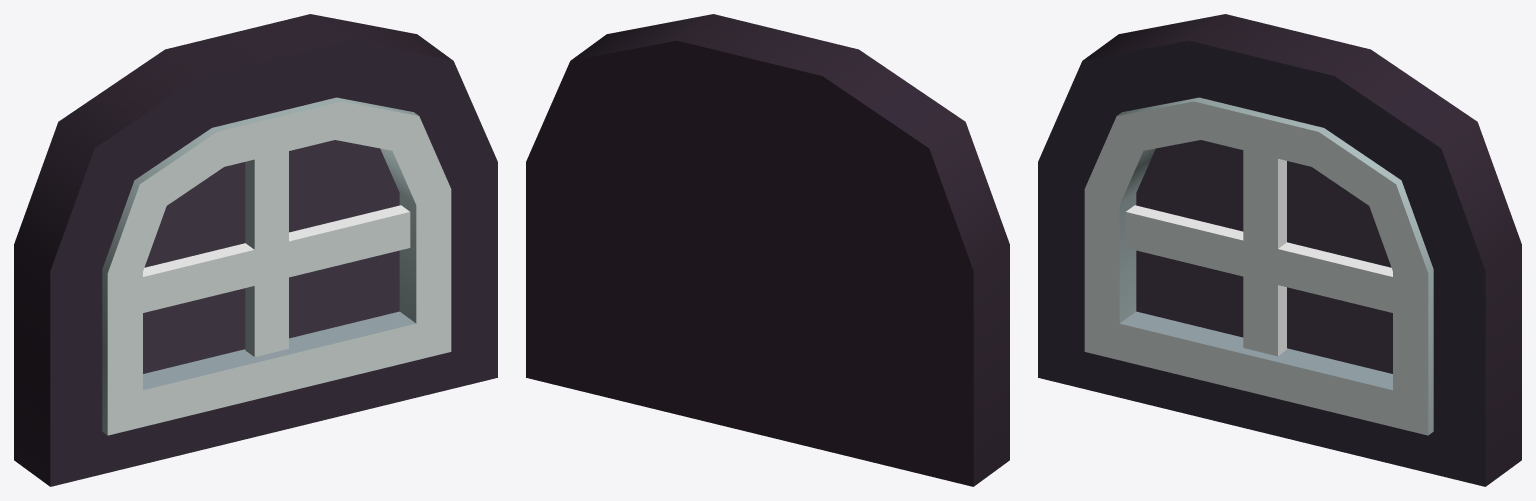
The model's file is Window01_Black_White.glb.
The picture shows the model from 3 angles, left to right: view 1: azimuth 30°, elevation 25°; view 2: azimuth 150°, elevation 25°; view 3: azimuth 330°, elevation 25°; orthographic projection.
Parts seen in each view (by area): view 1: Window01_Black_White; view 2: Window01_Black_White; view 3: Window01_Black_White.
Boxes of the visible parts, x1,y1,x2,y2 form: Window01_Black_White: [14, 14, 497, 486]; Window01_Black_White: [526, 14, 1009, 486]; Window01_Black_White: [1038, 14, 1521, 486].
Size of the model in its own units: 0.8998 by 0.7186 by 0.1456.
1 material, 1 textured.
